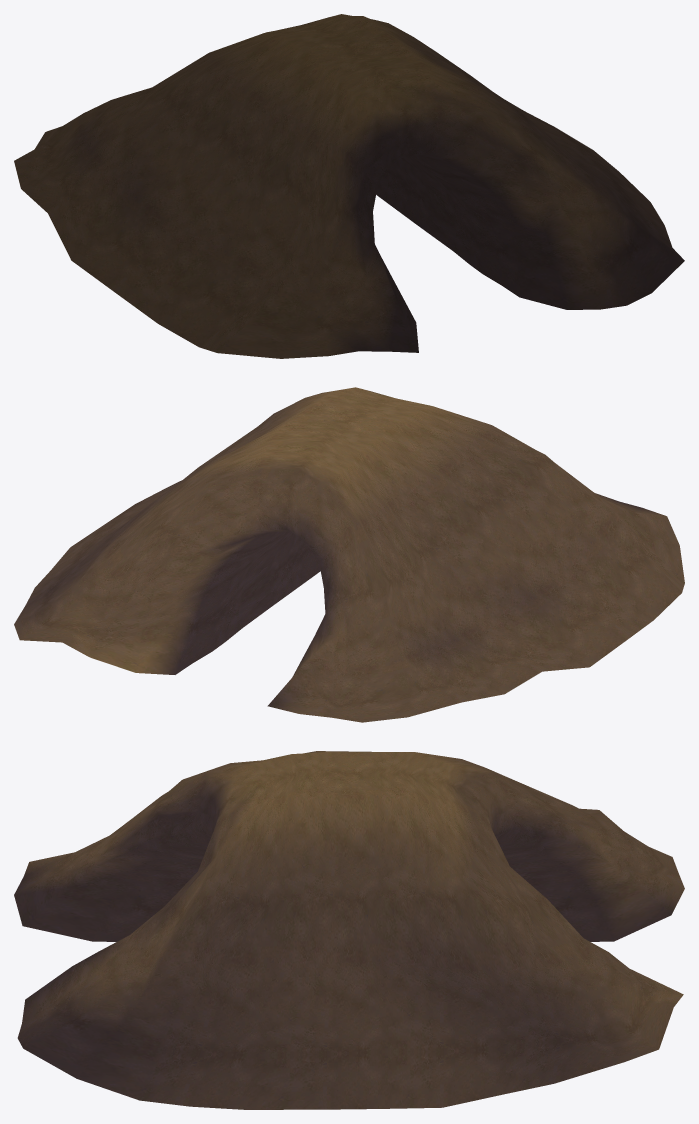
The picture shows the model from 3 angles, top to bottom: view 1: azimuth 30°, elevation 25°; view 2: azimuth 150°, elevation 25°; view 3: azimuth 270°, elevation 25°; orthographic projection. The views are drawn at different scales.
Visible parts, largest first — view 1: Joint_0_Object_0; view 2: Joint_0_Object_0; view 3: Joint_0_Object_0.
Part boxes in pixels (x1,y1,x2,y2): Joint_0_Object_0: (14, 14, 684, 358); Joint_0_Object_0: (14, 387, 684, 722); Joint_0_Object_0: (14, 751, 684, 1109).
Bounding box in the file's own units: 3405 × 1170 × 3475.
Materials: 1 (1 with a texture image).
